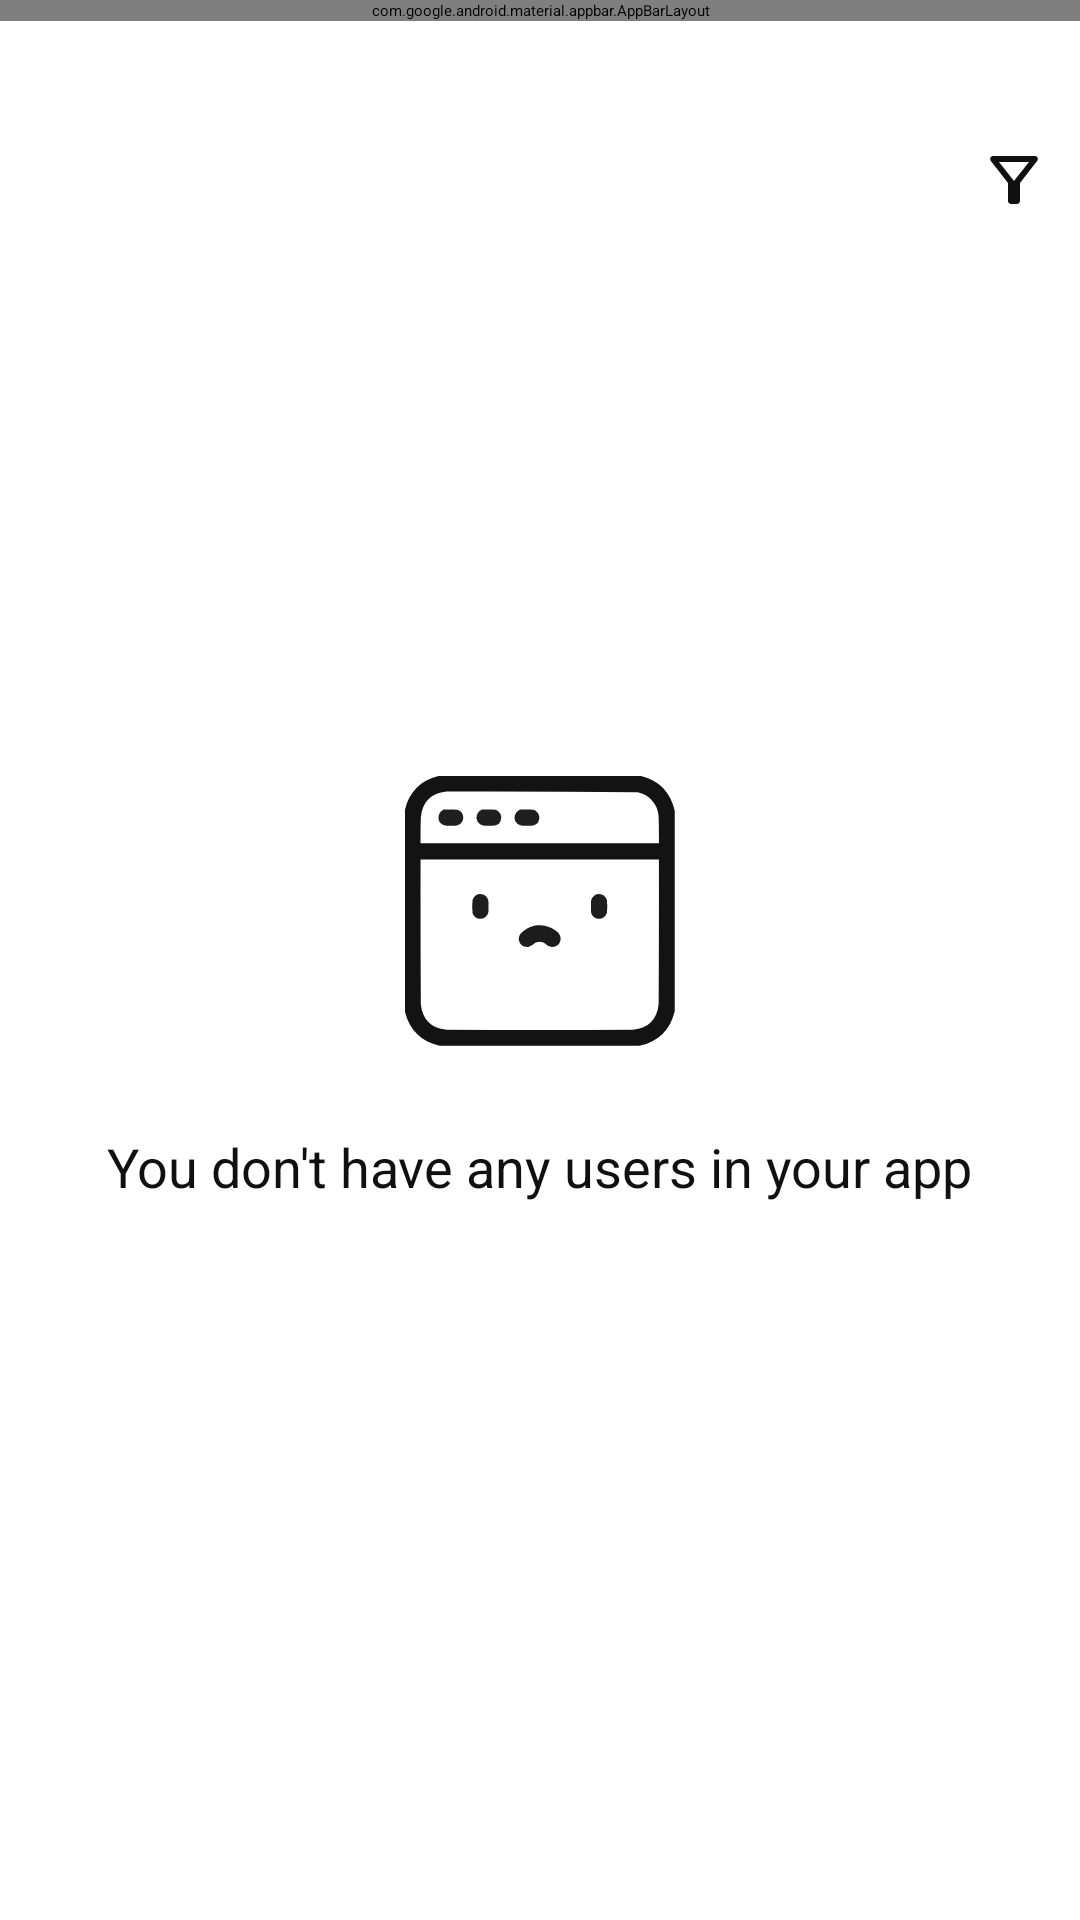

Where to tap for icons on this 1080x1920 app screen, as [x,y]:
filter: [1014,180]
